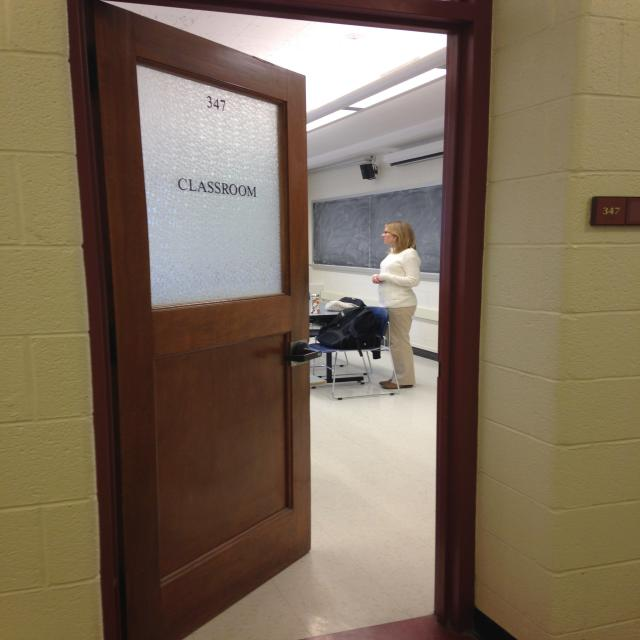open: (78, 2, 481, 639)
